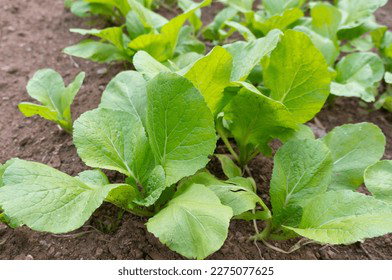Sawi: (55, 89, 223, 249)
